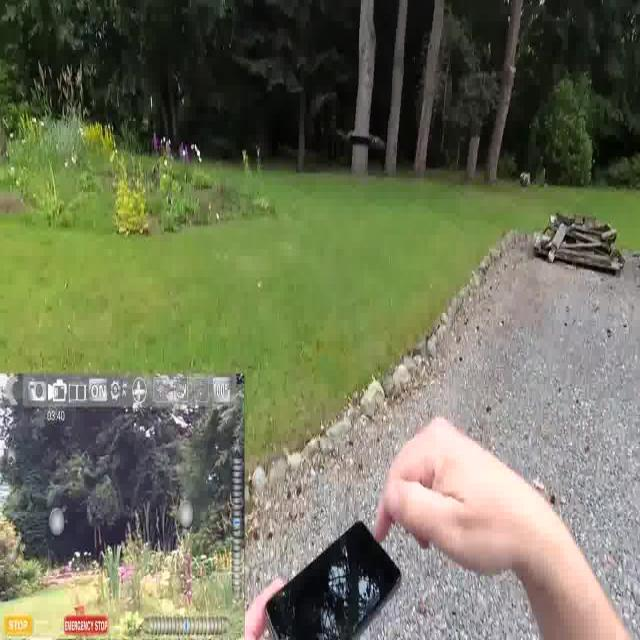drones: (332, 118, 393, 162)
